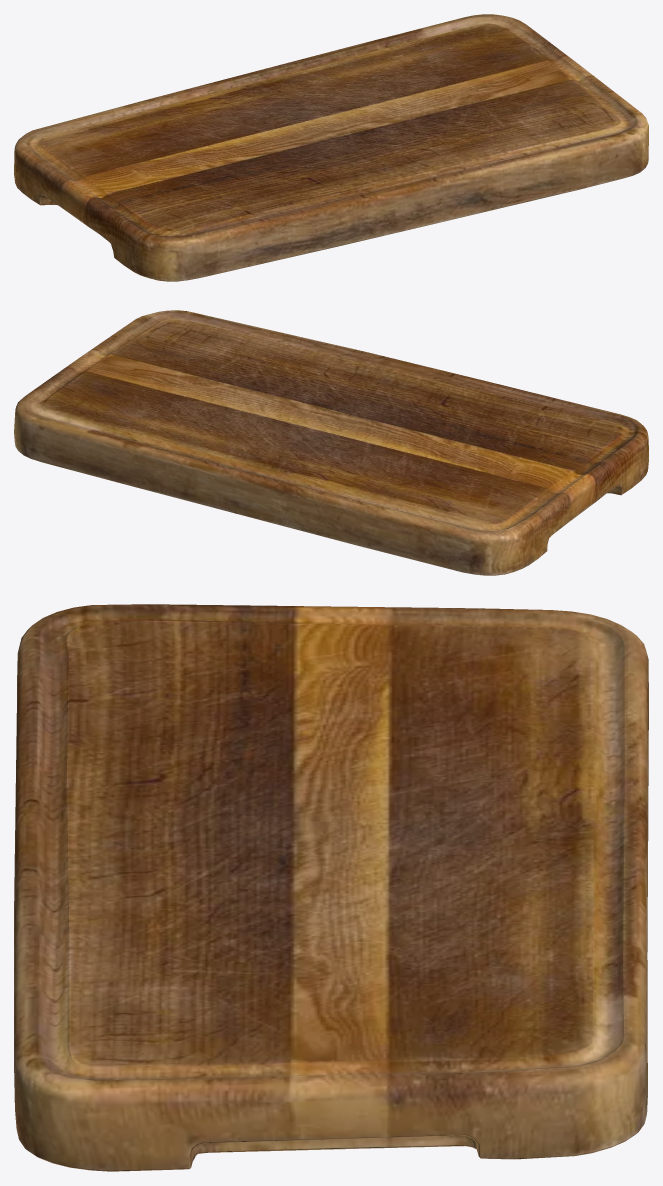
The model's file is wooden_cutting_board.glb.
The picture shows the model from 3 angles, top to bottom: view 1: azimuth 30°, elevation 25°; view 2: azimuth 150°, elevation 25°; view 3: azimuth 270°, elevation 25°; orthographic projection. The views are drawn at different scales.
Visible parts, largest first — view 1: wooden_cutting_board; view 2: wooden_cutting_board; view 3: wooden_cutting_board.
Part boxes in pixels (box(x1,y1,x2,y2)): wooden_cutting_board: box(14, 14, 648, 281); wooden_cutting_board: box(14, 310, 648, 575); wooden_cutting_board: box(14, 604, 648, 1171).
Bounding box in the file's own units: 0.4498 × 0.0412 × 0.2463.
Materials: 1 (1 with a texture image).
